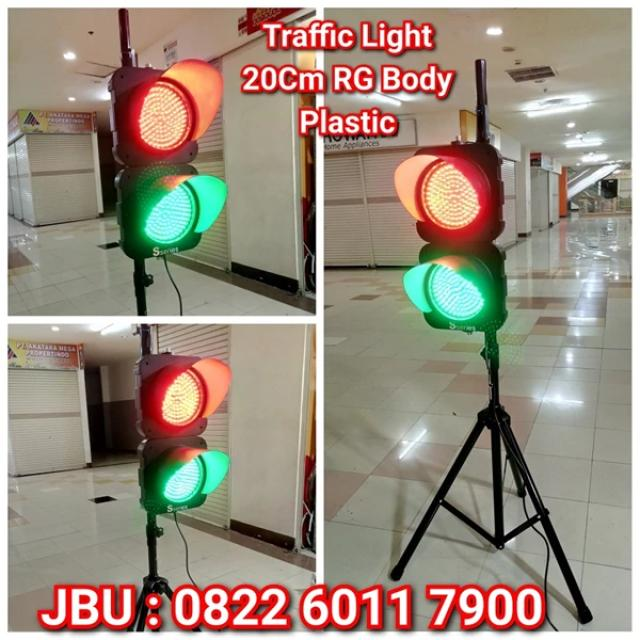Hijau: (140, 180, 200, 246), (427, 262, 486, 322), (163, 455, 203, 503)
Kuning: (139, 81, 192, 149)
Merah: (421, 161, 479, 231), (158, 364, 204, 427)
